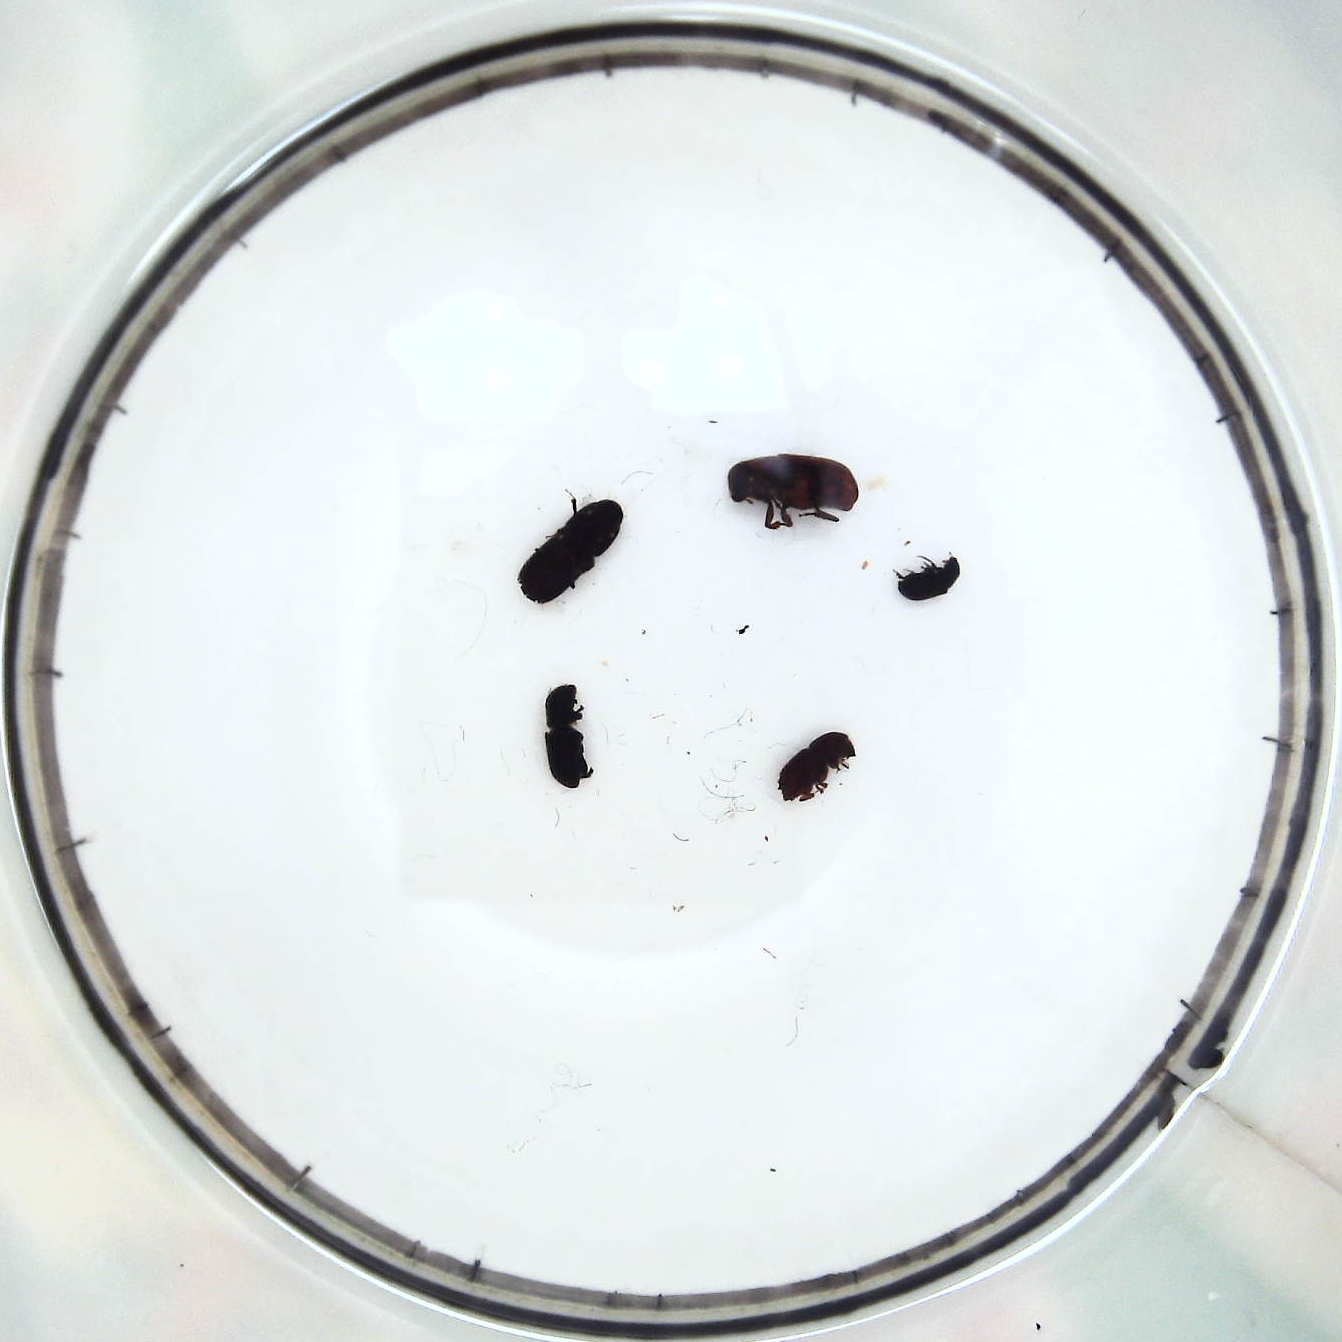Boerner: (514, 496, 626, 598)
Leconte: (728, 451, 858, 526)
Linnaeus: (777, 732, 857, 802)
armandi: (546, 680, 595, 791)
coleoptera: (895, 548, 959, 597)
